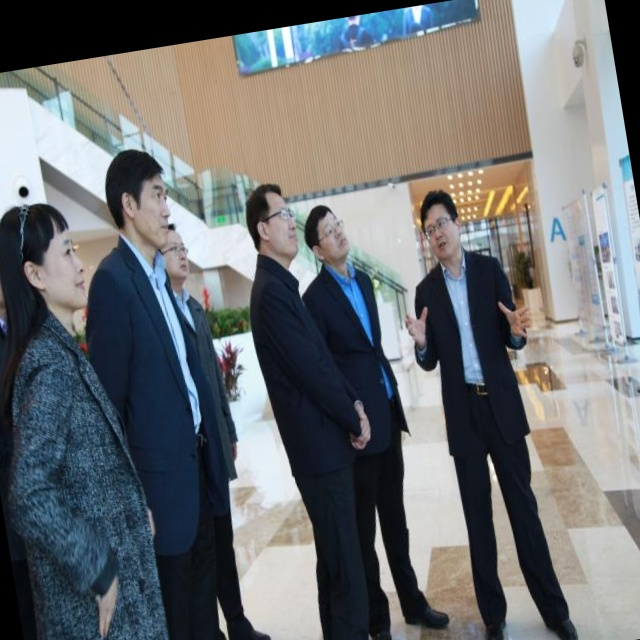Sin_Casco_Mascarrilla: (0, 199, 88, 320), (102, 145, 174, 250), (240, 179, 302, 259), (418, 186, 466, 267), (302, 200, 352, 266)
Sin_Chaleco: (244, 266, 346, 473), (415, 255, 523, 414)
